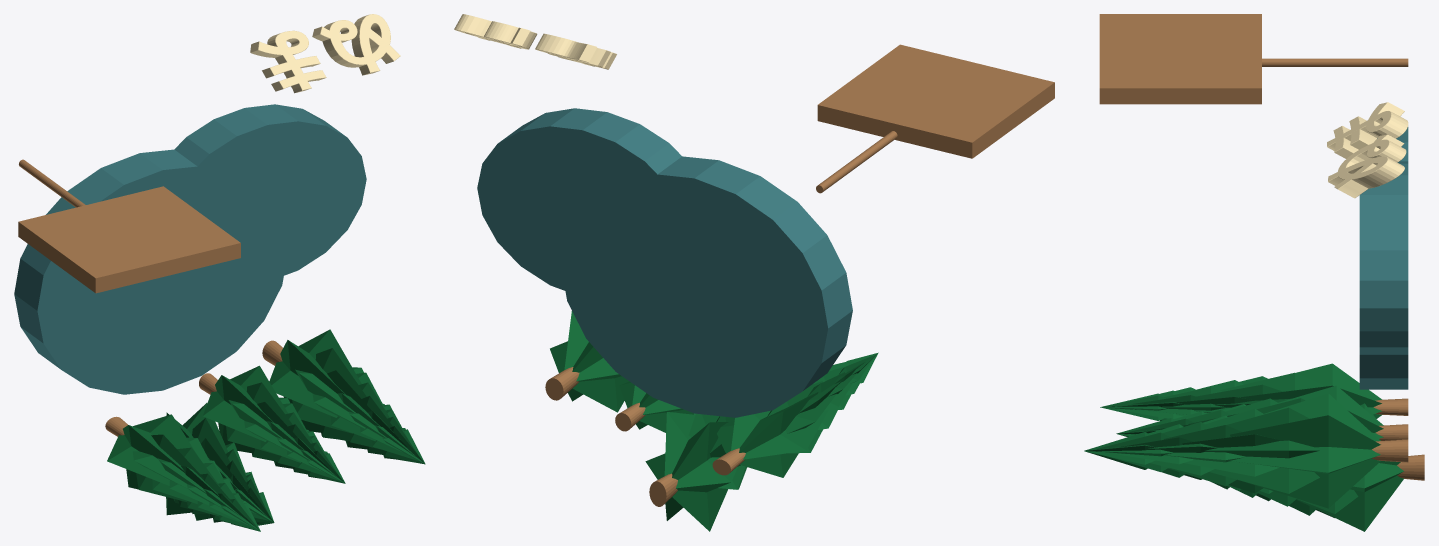
File: tinker.obj
3 renders of one model, left to right at view 1: azimuth 30°, elevation 25°; view 2: azimuth 150°, elevation 25°; view 3: azimuth 270°, elevation 25°, orthographic. The views are drawn at different scales.
Parts seen in each view (by area): view 1: group_0_4094848, group_0_1206582, group_0_11107152, group_0_16311991; view 2: group_0_4094848, group_0_11107152, group_0_1206582, group_0_16311991; view 3: group_0_1206582, group_0_11107152, group_0_4094848, group_0_16311991.
Boxes of the visible parts, x1=… form: group_0_4094848: x1=14, y1=104, x2=366, y2=394; group_0_1206582: x1=107, y1=329, x2=425, y2=531; group_0_11107152: x1=18, y1=159, x2=282, y2=436; group_0_16311991: x1=250, y1=14, x2=400, y2=93; group_0_4094848: x1=477, y1=108, x2=852, y2=417; group_0_11107152: x1=545, y1=44, x2=1054, y2=506; group_0_1206582: x1=550, y1=311, x2=878, y2=531; group_0_16311991: x1=454, y1=14, x2=616, y2=69; group_0_1206582: x1=1084, y1=363, x2=1403, y2=531; group_0_11107152: x1=1099, y1=14, x2=1424, y2=480; group_0_4094848: x1=1359, y1=127, x2=1408, y2=389; group_0_16311991: x1=1327, y1=102, x2=1408, y2=198.
Size of the model in its own units: 30 by 30 by 20.
